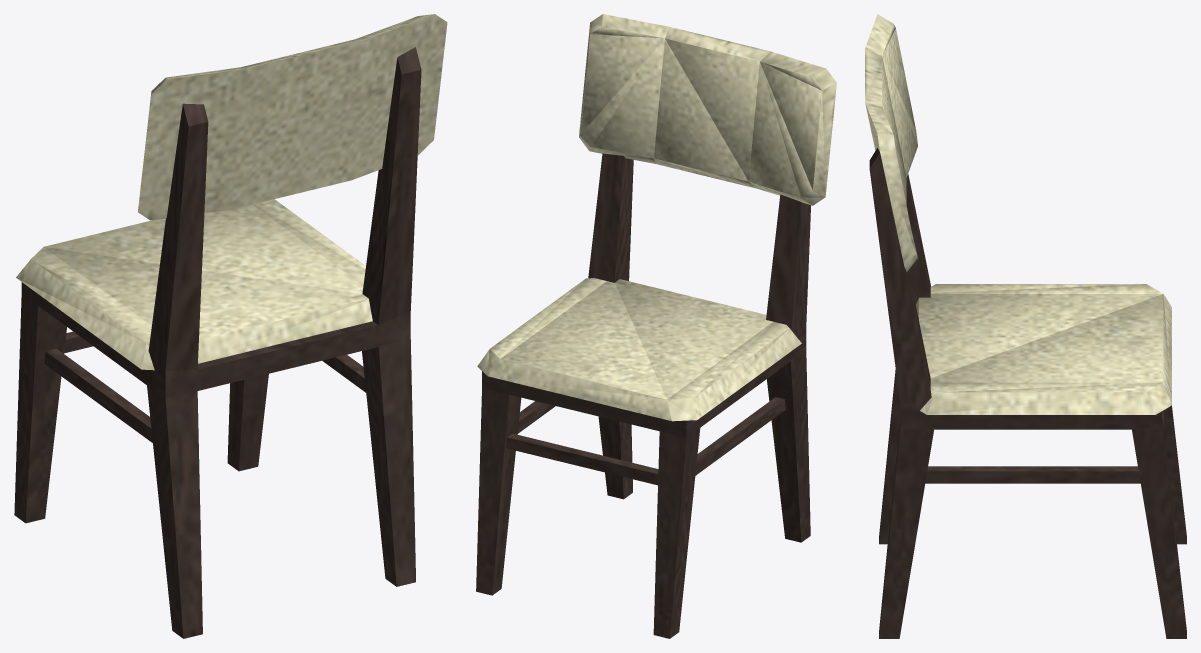
Rendered from cadeira_c.glb.
3 renders of one model, left to right at view 1: azimuth 30°, elevation 25°; view 2: azimuth 150°, elevation 25°; view 3: azimuth 270°, elevation 25°, orthographic. The views are drawn at different scales.
Visible parts, largest first — view 1: cadeira_c; view 2: cadeira_c; view 3: cadeira_c.
Boxes of the visible parts, x1,y1,x2,y2 form: cadeira_c: (14, 14, 447, 638); cadeira_c: (476, 14, 836, 638); cadeira_c: (865, 14, 1186, 638).
Size of the model in its own units: 0.5749 by 1.05 by 0.5943.
Materials: 1 (1 with a texture image).
